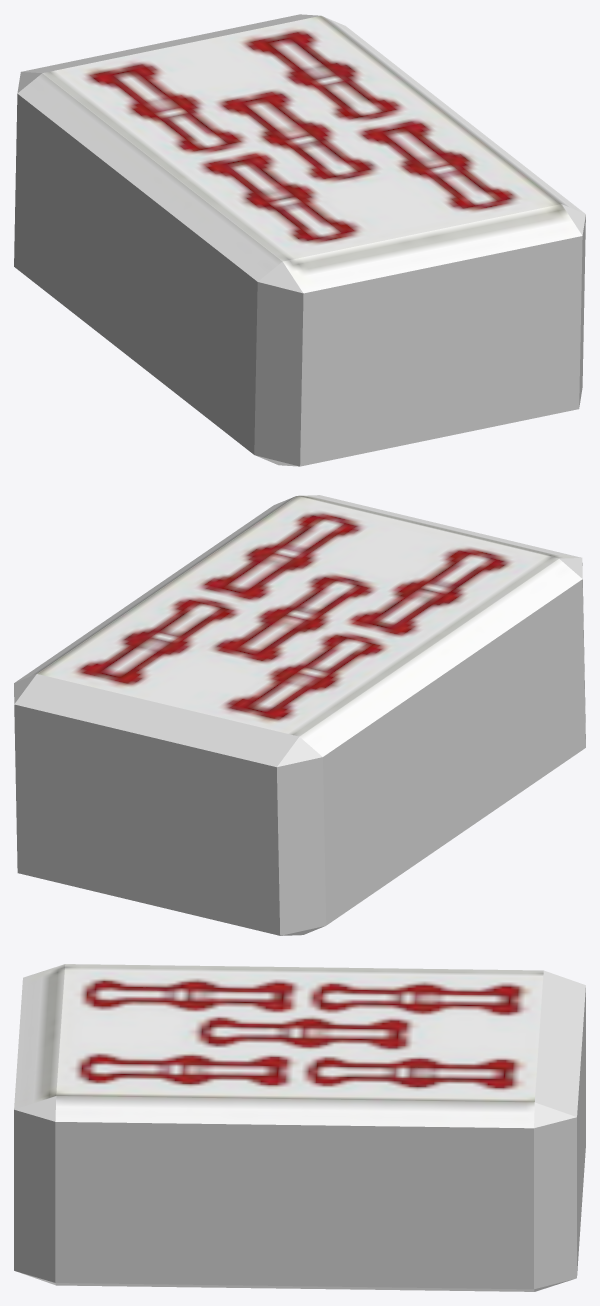
3 views of the same model, one above another, from view 1: azimuth 30°, elevation 25°; view 2: azimuth 150°, elevation 25°; view 3: azimuth 270°, elevation 25° (orthographic). The views are drawn at different scales.
Parts seen in each view (by area): view 1: 5sr; view 2: 5sr; view 3: 5sr.
Part boxes in pixels (x1,y1,x2,y2): 5sr: (14, 14, 585, 466); 5sr: (14, 495, 585, 935); 5sr: (14, 964, 585, 1291).
Size of the model in its own units: 52.53 by 30.93 by 81.24.
